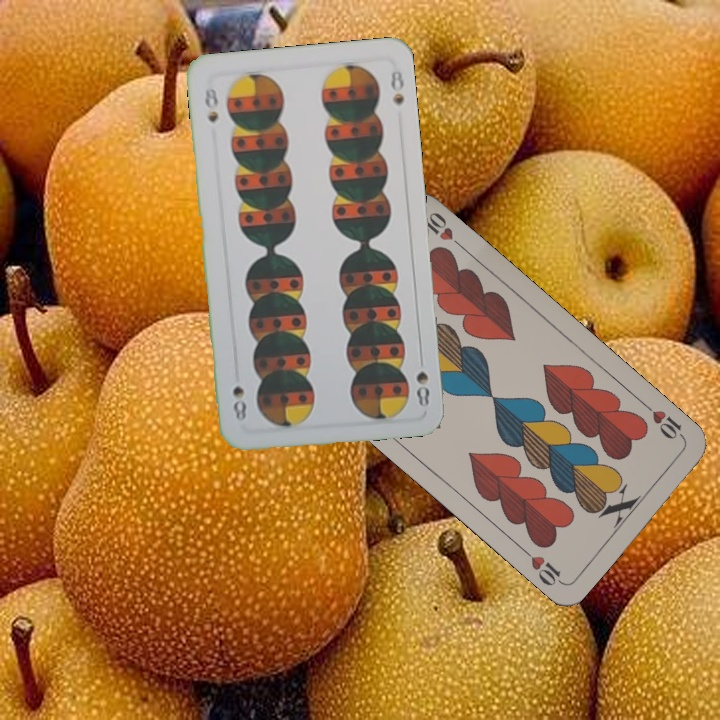H10: (639, 399, 688, 443)
S8: (412, 367, 433, 410), (201, 84, 221, 125)
